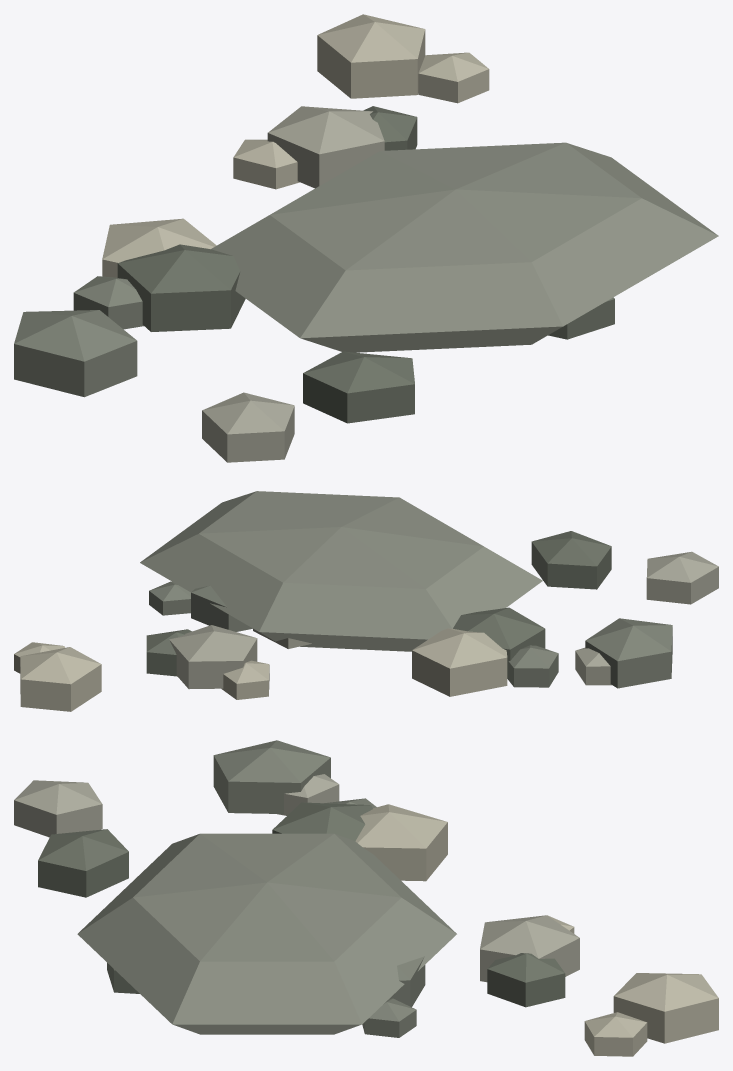
Rendered from cover_stones_shore.glb.
3 renders of one model, top to bottom at view 1: azimuth 30°, elevation 25°; view 2: azimuth 150°, elevation 25°; view 3: azimuth 270°, elevation 25°, orthographic. The views are drawn at different scales.
Visible parts, largest first — view 1: cover_stones_shore; view 2: cover_stones_shore; view 3: cover_stones_shore.
Boxes of the visible parts, x1,y1,x2,y2 form: cover_stones_shore: [14, 14, 718, 462]; cover_stones_shore: [14, 491, 718, 711]; cover_stones_shore: [14, 740, 718, 1056].
Bounding box in the file's own units: 1.41 × 0.24 × 1.48.
